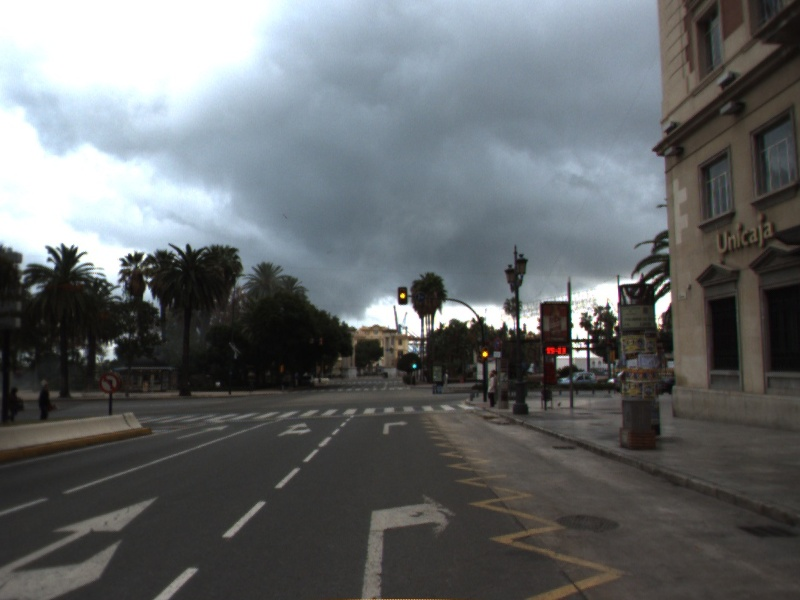RIGHT: (356, 489, 462, 600), (381, 418, 411, 436)
STRAIGHT: (174, 423, 232, 441)
STRAIGHT_RIGHT: (1, 491, 164, 600), (275, 420, 314, 438)
